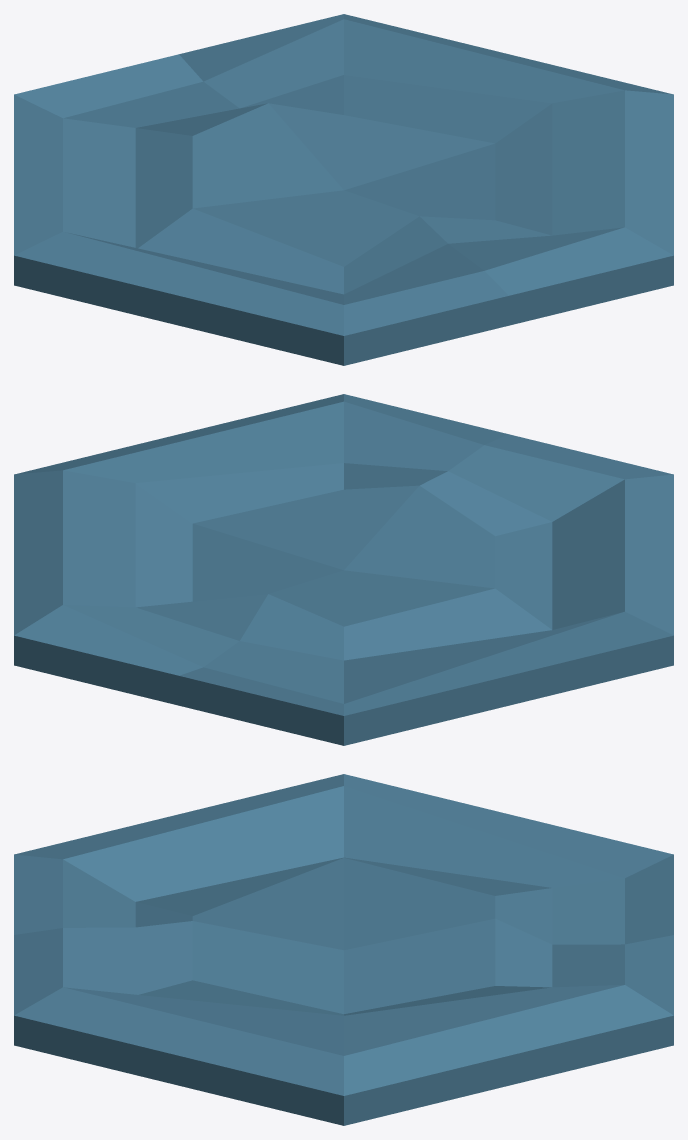
The model's file is Water_01.fbx.
3 views of the same model, one above another, from view 1: azimuth 30°, elevation 25°; view 2: azimuth 150°, elevation 25°; view 3: azimuth 270°, elevation 25° (orthographic).
Visible parts, largest first — view 1: Circle.005; view 2: Circle.005; view 3: Circle.005.
Boxes of the visible parts, <box> form: Circle.005: <box>14,14,673,365</box>; Circle.005: <box>14,394,673,745</box>; Circle.005: <box>14,774,673,1125</box>.
Size of the model in its own units: 213 by 15.67 by 184.
